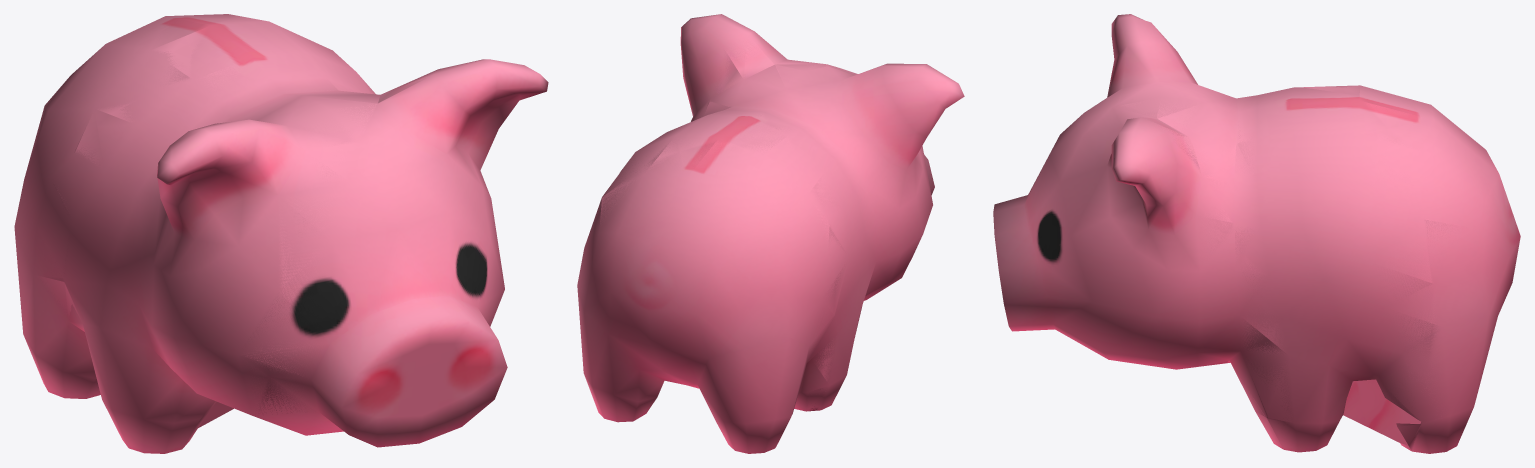
Rendered from Breakable piggy bank.fbx.
The picture shows the model from 3 angles, left to right: view 1: azimuth 30°, elevation 25°; view 2: azimuth 150°, elevation 25°; view 3: azimuth 270°, elevation 25°; orthographic projection. The views are drawn at different scales.
Parts seen in each view (by area): view 1: Cat_Pig__1_ (×2), Cat_Pig__1_1, Cat_Pig__1_2, Cat_Pig__1_3; view 2: Cat_Pig__1_ (×2), Cat_Pig__1_1, Cat_Pig__1_3, Cat_Pig__1_2; view 3: Cat_Pig__1_ (×2), Cat_Pig__1_3, Cat_Pig__1_2, Cat_Pig__1_1.
Part boxes in pixels (bbox=[...]): Cat_Pig__1_ (×2): bbox=[14, 14, 548, 453]; Cat_Pig__1_1: bbox=[57, 72, 395, 421]; Cat_Pig__1_2: bbox=[269, 70, 437, 433]; Cat_Pig__1_3: bbox=[160, 17, 361, 427]; Cat_Pig__1_ (×2): bbox=[577, 14, 964, 453]; Cat_Pig__1_1: bbox=[708, 64, 853, 410]; Cat_Pig__1_3: bbox=[597, 103, 801, 210]; Cat_Pig__1_2: bbox=[709, 34, 830, 101]; Cat_Pig__1_ (×2): bbox=[993, 14, 1520, 453]; Cat_Pig__1_3: bbox=[1210, 86, 1432, 448]; Cat_Pig__1_2: bbox=[1112, 102, 1268, 418]; Cat_Pig__1_1: bbox=[1118, 82, 1285, 180].
Bounding box in the file's own units: 43.25 × 42.28 × 60.96.
Materials: 2 (2 with a texture image).
